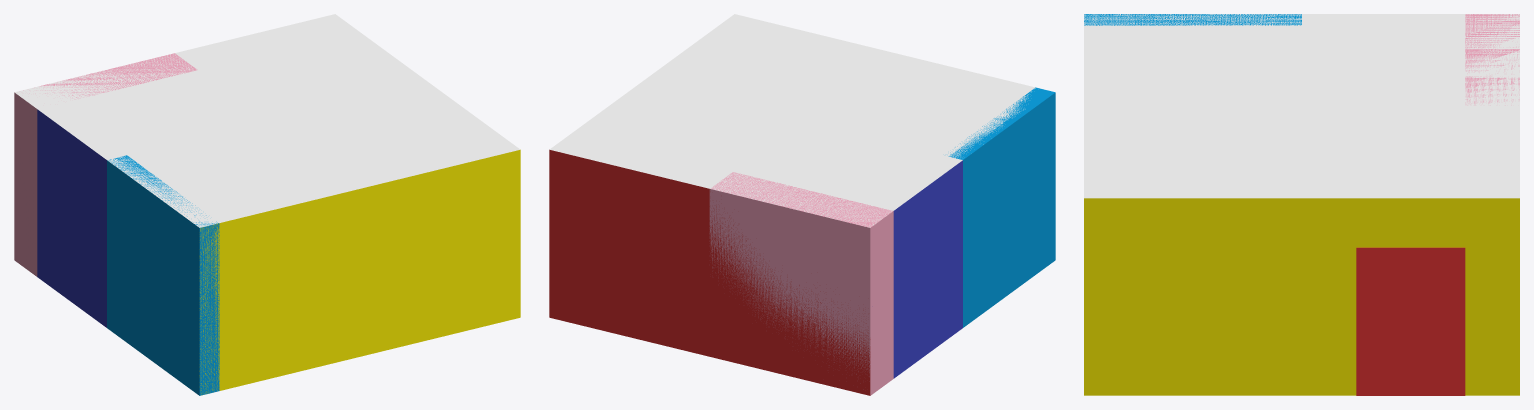
3 views of the same model, side by side, from view 1: azimuth 30°, elevation 25°; view 2: azimuth 150°, elevation 25°; view 3: azimuth 270°, elevation 25° (orthographic). The views are drawn at different scales.
Parts seen in each view (by area): view 1: roof, south_left, south_right, blue_west, west_right, pink_north; view 2: roof, notrh_right, pink_north, blue_west, notrh_left, west_right; view 3: roof, east_right, east_left, door, pink_north, blue_west.
Part boxes in pixels (x1,y1,x2,y2): roof: (15, 14, 519, 227); south_left: (360, 149, 520, 356); south_right: (199, 189, 360, 395); blue_west: (107, 155, 219, 395); west_right: (37, 109, 106, 327); pink_north: (14, 53, 197, 276); roof: (550, 14, 1035, 227); notrh_right: (549, 149, 709, 356); pink_north: (709, 172, 893, 395); blue_west: (948, 87, 1055, 327); notrh_left: (709, 191, 870, 395); west_right: (893, 160, 962, 378); roof: (1084, 14, 1519, 198); east_right: (1084, 198, 1301, 395); east_left: (1302, 198, 1519, 395); door: (1356, 247, 1465, 395); pink_north: (1465, 14, 1519, 105); blue_west: (1084, 14, 1301, 25).
Size of the model in its own units: 33.37 by 16.65 by 33.3.
9 materials, 9 textured.
